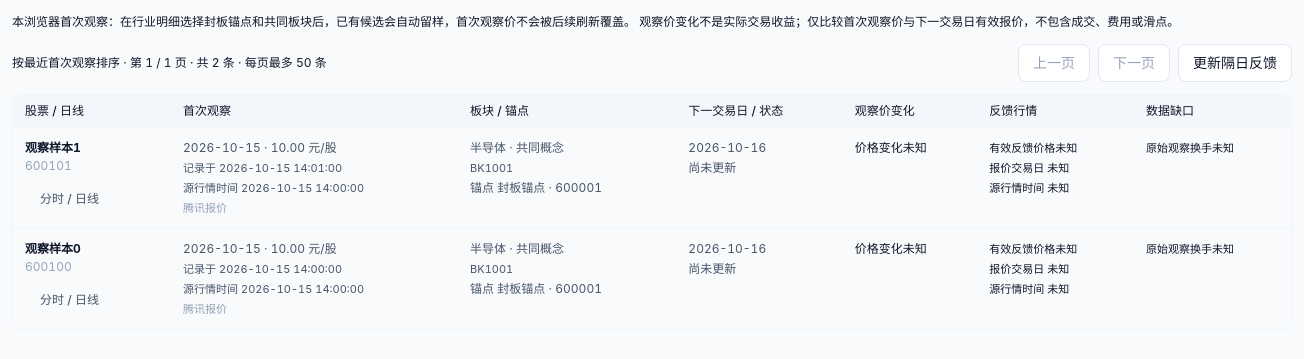
Test: CatchUpFollowUpPanel › aligns reordered feedback by identity and retains original observation prices
This screenshot has width=1304, height=359.
Click the button "更新隔日反馈".
click(1235, 62)  # box [1178,44,1292,82]
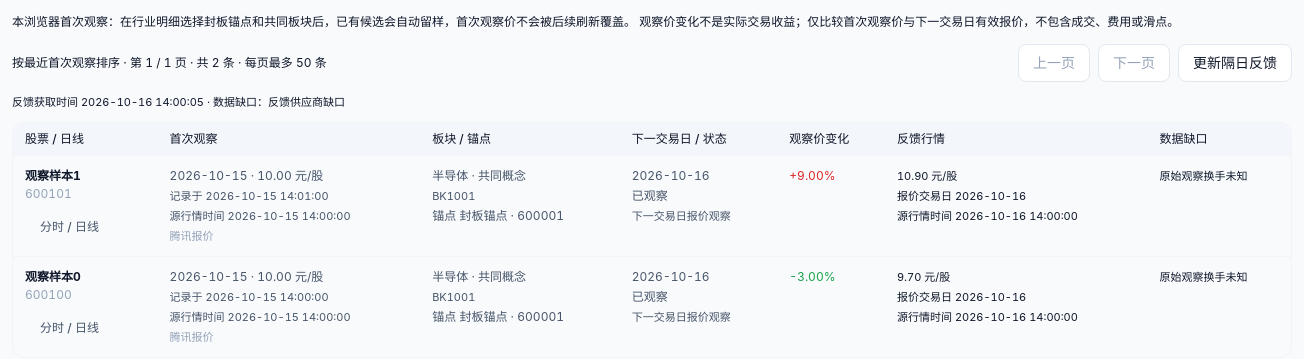
Expected: the text "源行情时间" is shown, [170,209,228,223]
Result: the text "反馈获取时间" is shown at [12,94,81,108]
Result: the text "反馈供应商缺口" is shown at [204,94,345,108]
